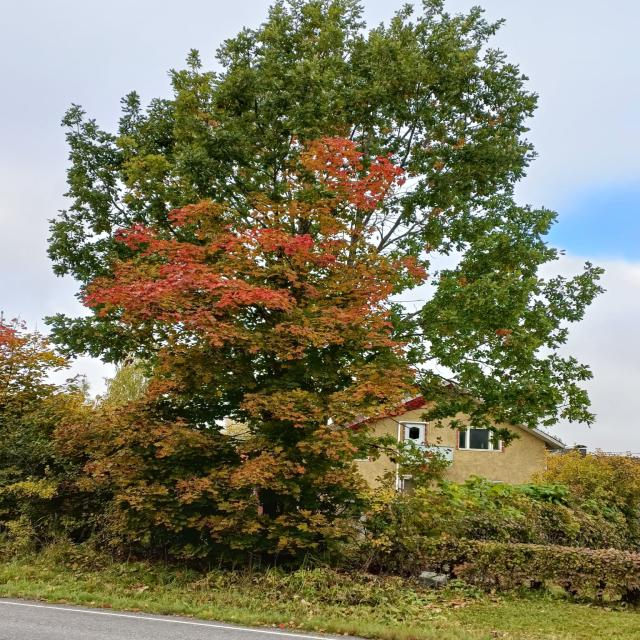Tree-detection: (36, 0, 607, 576)
